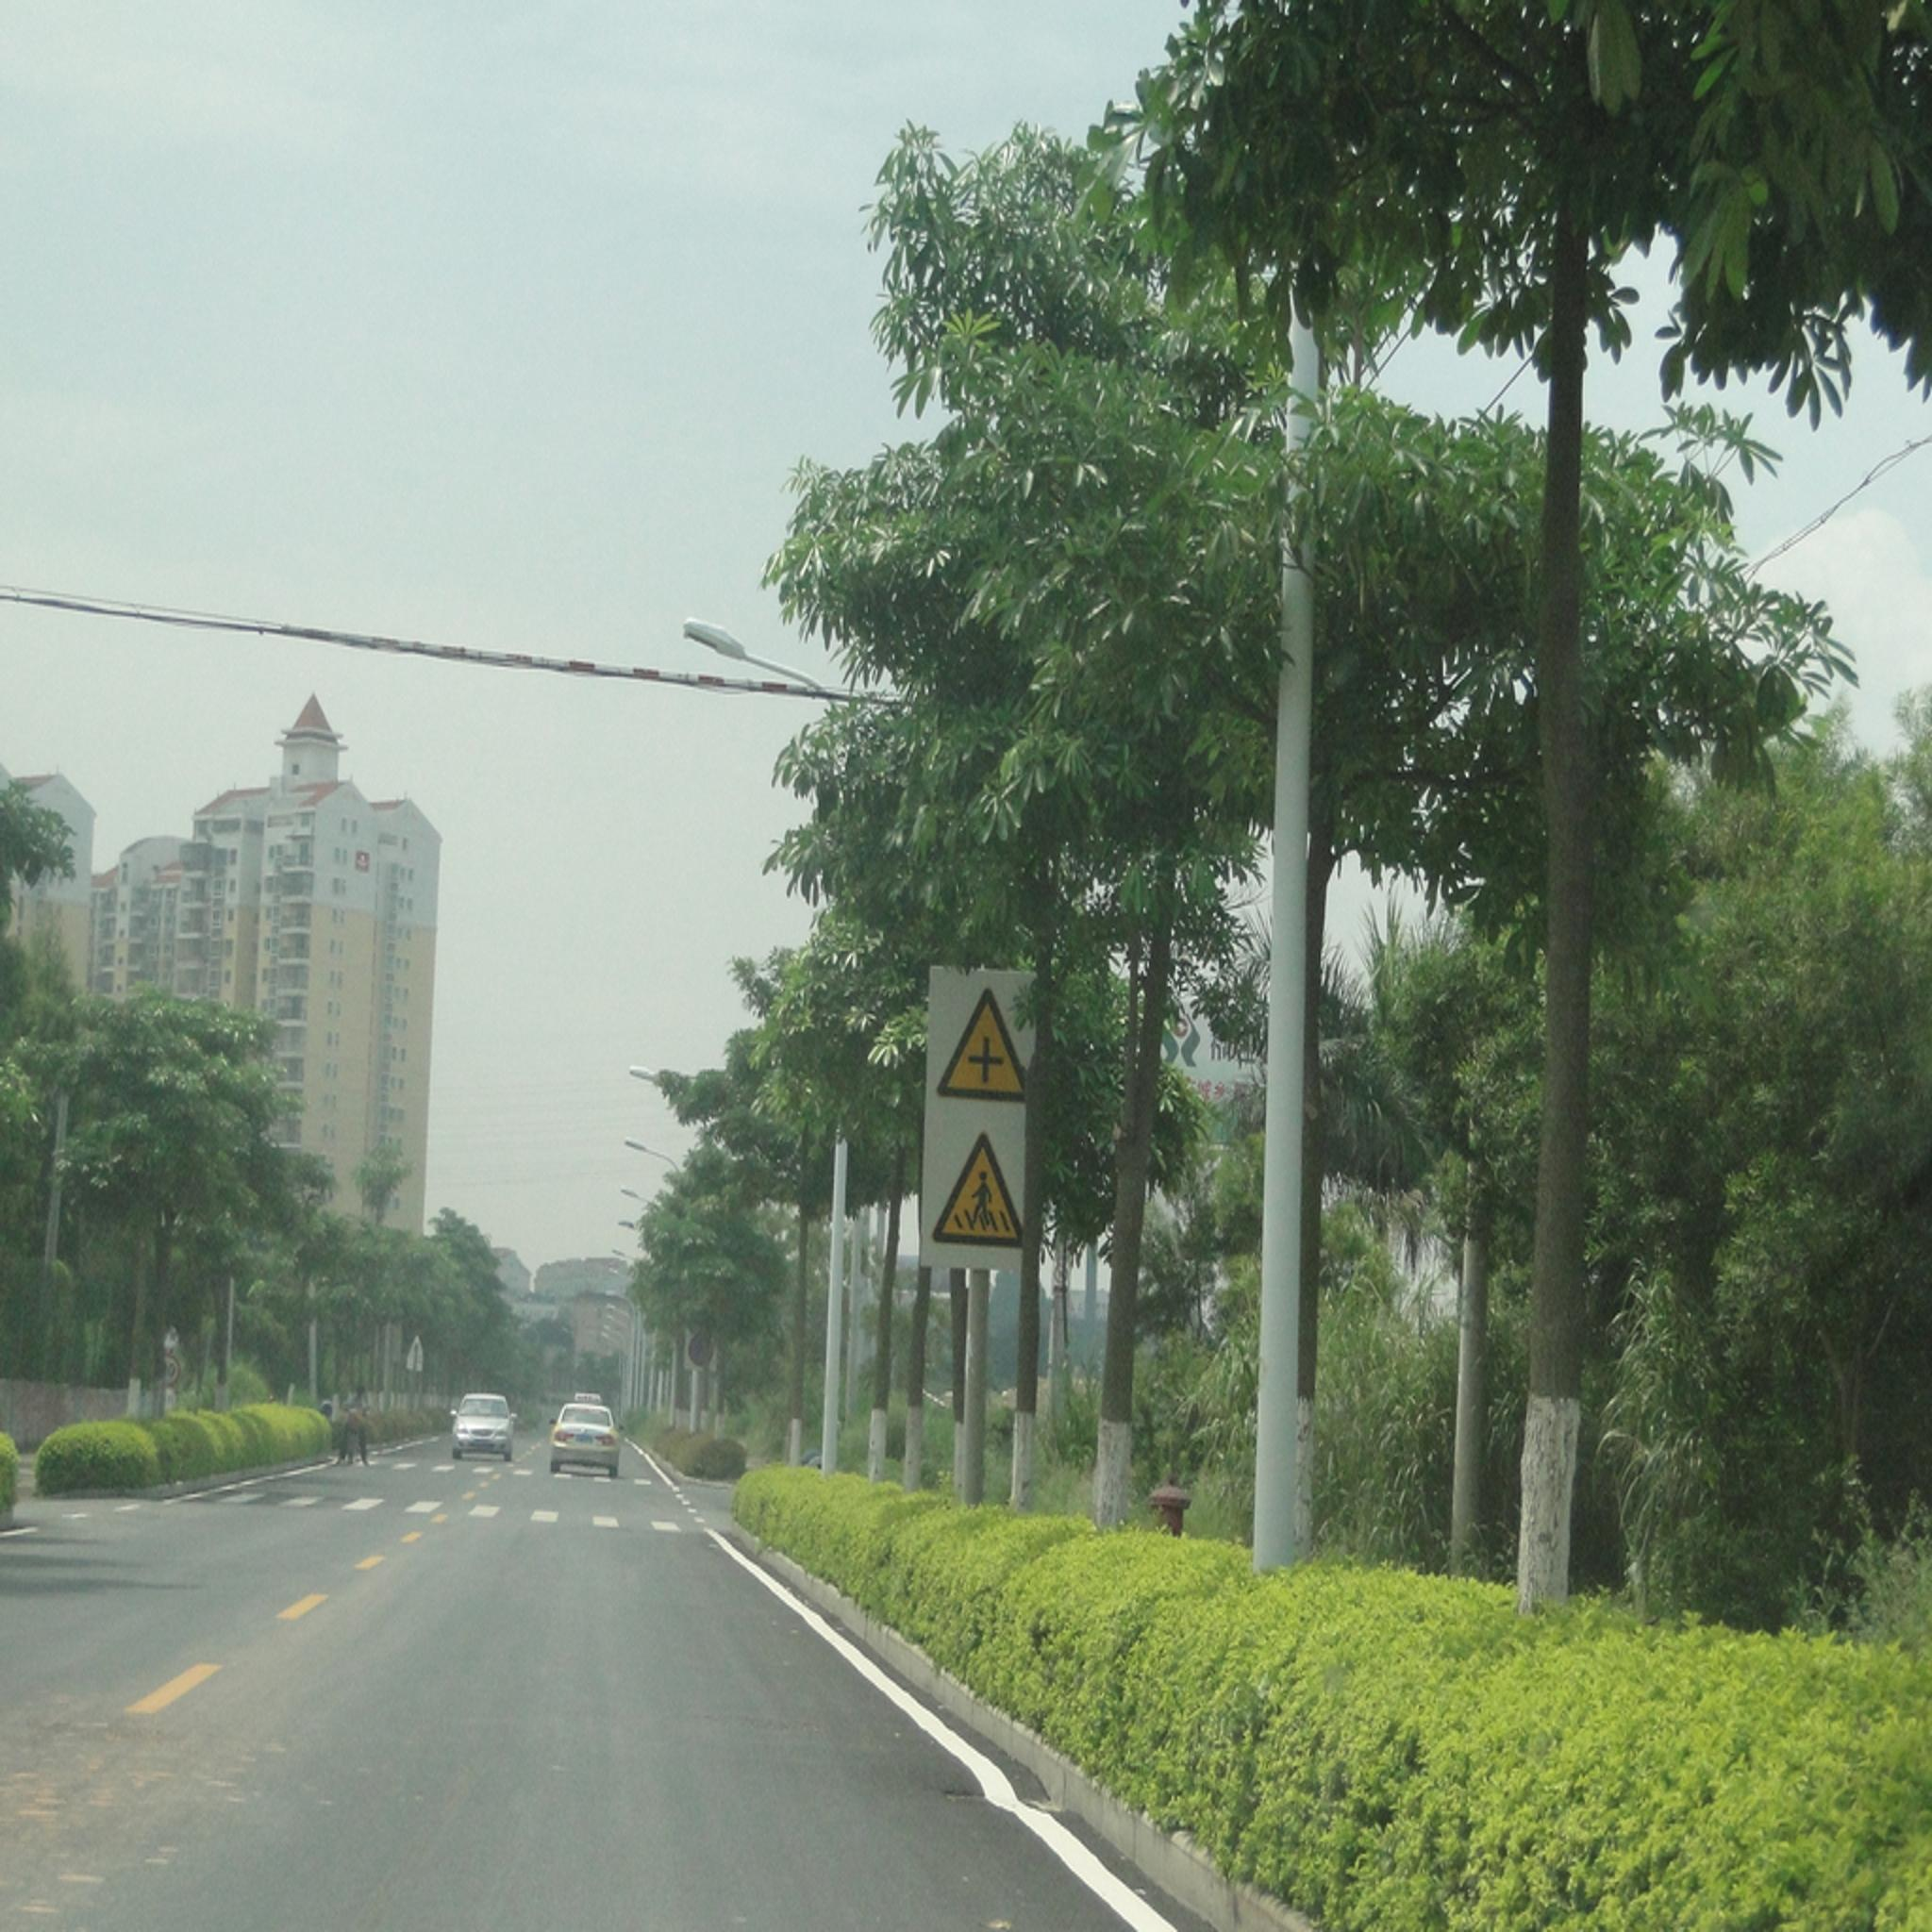w13: (936, 993, 1039, 1115)
w57: (931, 1139, 1033, 1242)
